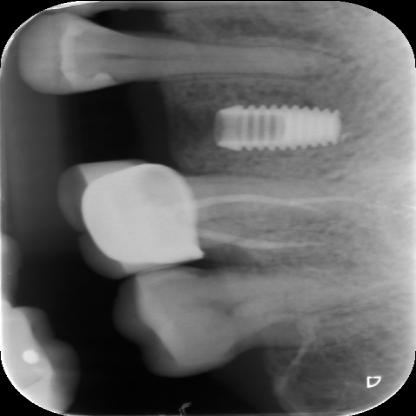Bicon: (206, 97, 350, 160)
